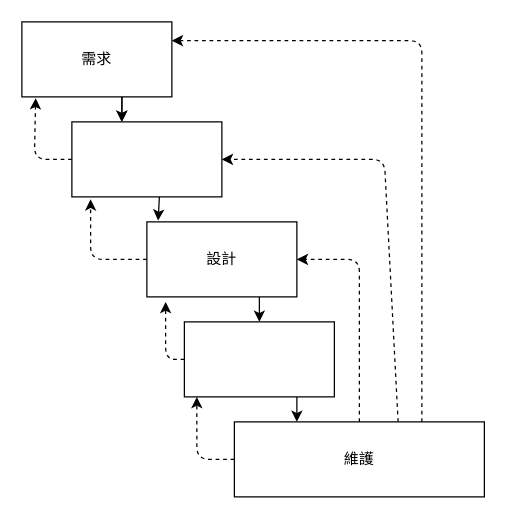
Some shapes in this 506 by 519 pixel diagram are drawn without their labels. The shapes that lost their labels are listed below. From the top down, each one's centre as x and y in pixels, then its label:
[146,159]: 分析
[258,359]: 製作
